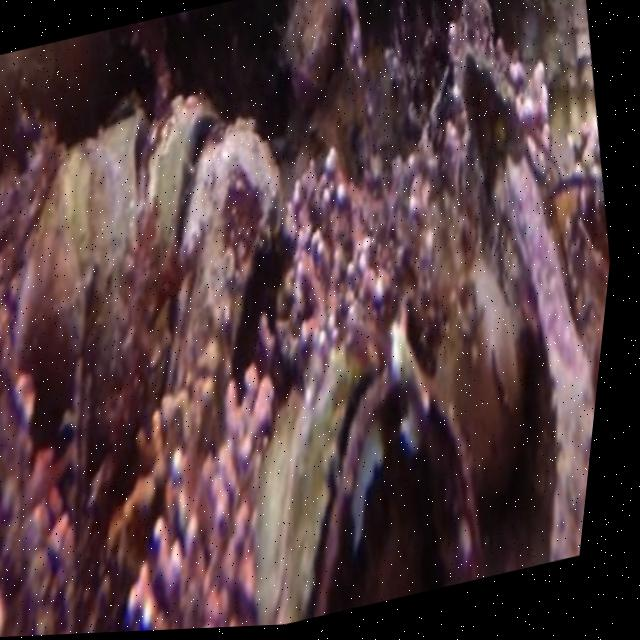Oyster-Closed: (258, 336, 487, 625), (14, 107, 149, 451), (138, 95, 223, 405)
Oyster-Indeterminate: (170, 120, 284, 386)
